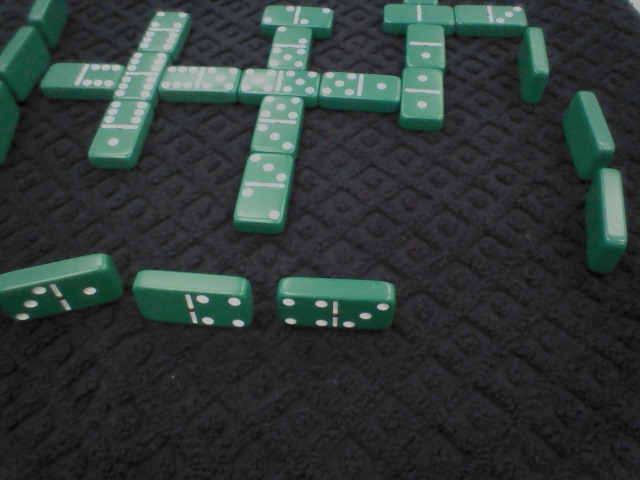B: (229, 152, 293, 232), (95, 97, 155, 170), (313, 65, 398, 116), (392, 64, 452, 131), (242, 98, 311, 156), (236, 61, 322, 106), (157, 57, 236, 104), (129, 7, 188, 60), (261, 2, 343, 40), (46, 57, 117, 99), (261, 24, 316, 76), (382, 1, 458, 36), (115, 49, 163, 102), (453, 3, 530, 34), (400, 24, 451, 69)
C: (1, 26, 51, 94), (25, 1, 68, 51), (1, 80, 22, 168)
D: (580, 167, 631, 279), (555, 90, 617, 177), (513, 26, 552, 114)
E: (3, 257, 127, 322), (128, 273, 255, 335), (270, 278, 395, 337)
